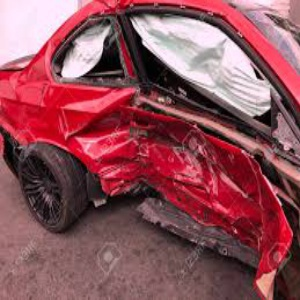door: (125, 131, 286, 248)
